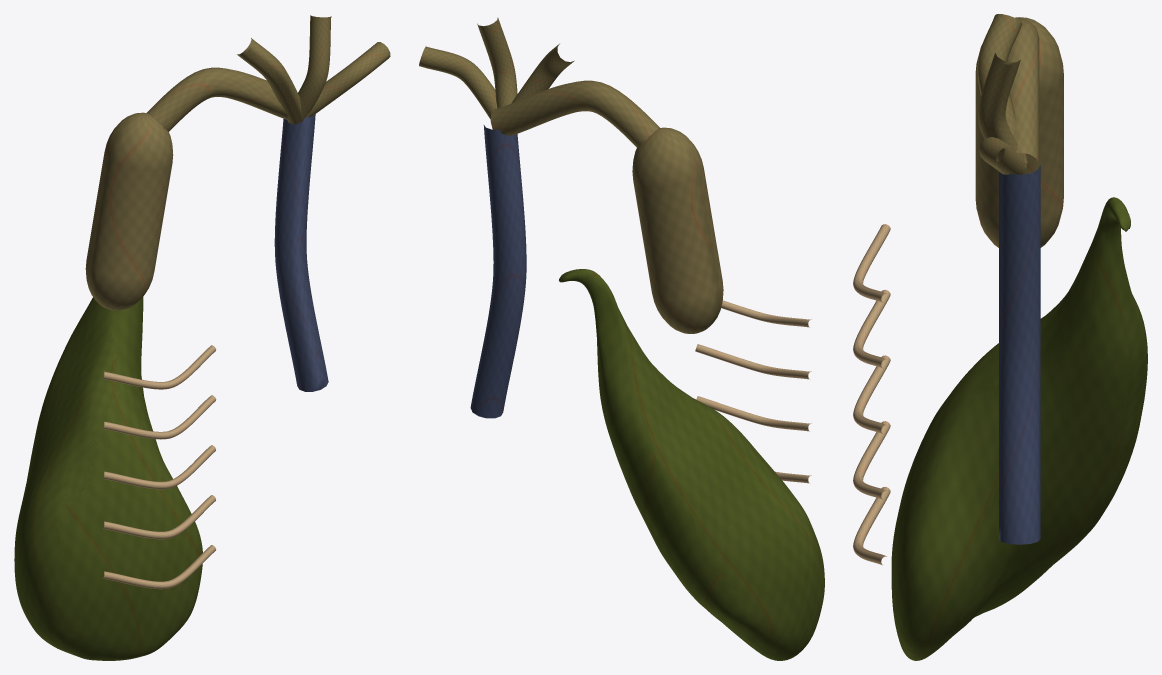
Rendered from gallbladder.a596a2ee.glb.
3 renders of one model, left to right at view 1: azimuth 30°, elevation 25°; view 2: azimuth 150°, elevation 25°; view 3: azimuth 270°, elevation 25°, orthographic. The views are drawn at different scales.
Parts seen in each view (by area): view 1: Gallbladder sac, procedural-gallbladder-surface-1, procedural-gallbladder-surface-3, procedural-gallbladder-surface-2, procedural-gallbladder-surface-5, procedural-gallbladder-surface-4, procedural-gallbladder-surface-6, procedural-gallbladder-surface-9, procedural-gallbladder-surface-7, procedural-gallbladder-surface-10, procedural-gallbladder-surface-8, procedural-gallbladder-surface-11; view 2: Gallbladder sac, procedural-gallbladder-surface-1, procedural-gallbladder-surface-3, procedural-gallbladder-surface-2, procedural-gallbladder-surface-6, procedural-gallbladder-surface-5, procedural-gallbladder-surface-4, procedural-gallbladder-surface-8, procedural-gallbladder-surface-9, procedural-gallbladder-surface-7; view 3: Gallbladder sac, procedural-gallbladder-surface-3, procedural-gallbladder-surface-1, procedural-gallbladder-surface-2, procedural-gallbladder-surface-5, procedural-gallbladder-surface-4, procedural-gallbladder-surface-6, procedural-gallbladder-surface-7, procedural-gallbladder-surface-9, procedural-gallbladder-surface-8, procedural-gallbladder-surface-11, procedural-gallbladder-surface-10.
Part boxes in pixels (left/top/right/bottom): Gallbladder sac: left=14, top=297, right=202, bottom=660; procedural-gallbladder-surface-1: left=85, top=112, right=173, bottom=310; procedural-gallbladder-surface-3: left=274, top=114, right=328, bottom=391; procedural-gallbladder-surface-2: left=147, top=67, right=287, bottom=131; procedural-gallbladder-surface-5: left=298, top=15, right=331, bottom=119; procedural-gallbladder-surface-4: left=237, top=38, right=303, bottom=124; procedural-gallbladder-surface-6: left=306, top=42, right=390, bottom=117; procedural-gallbladder-surface-9: left=103, top=445, right=215, bottom=489; procedural-gallbladder-surface-7: left=103, top=345, right=216, bottom=389; procedural-gallbladder-surface-10: left=103, top=495, right=215, bottom=539; procedural-gallbladder-surface-8: left=103, top=395, right=216, bottom=439; procedural-gallbladder-surface-11: left=103, top=545, right=216, bottom=589; Gallbladder sac: left=559, top=269, right=824, bottom=660; procedural-gallbladder-surface-1: left=632, top=127, right=723, bottom=333; procedural-gallbladder-surface-3: left=470, top=125, right=526, bottom=418; procedural-gallbladder-surface-2: left=490, top=80, right=659, bottom=147; procedural-gallbladder-surface-6: left=419, top=46, right=497, bottom=119; procedural-gallbladder-surface-5: left=477, top=17, right=517, bottom=108; procedural-gallbladder-surface-4: left=511, top=43, right=574, bottom=134; procedural-gallbladder-surface-8: left=695, top=344, right=811, bottom=379; procedural-gallbladder-surface-9: left=696, top=396, right=811, bottom=431; procedural-gallbladder-surface-7: left=721, top=300, right=811, bottom=327; Gallbladder sac: left=891, top=197, right=1147, bottom=660; procedural-gallbladder-surface-3: left=999, top=165, right=1040, bottom=544; procedural-gallbladder-surface-1: left=975, top=17, right=1063, bottom=247; procedural-gallbladder-surface-2: left=1007, top=18, right=1039, bottom=164; procedural-gallbladder-surface-5: left=978, top=53, right=1026, bottom=167; procedural-gallbladder-surface-4: left=977, top=14, right=1027, bottom=162; procedural-gallbladder-surface-6: left=978, top=137, right=1026, bottom=174; procedural-gallbladder-surface-7: left=853, top=224, right=890, bottom=302; procedural-gallbladder-surface-9: left=853, top=355, right=890, bottom=433; procedural-gallbladder-surface-8: left=853, top=289, right=890, bottom=368; procedural-gallbladder-surface-11: left=853, top=486, right=890, bottom=565; procedural-gallbladder-surface-10: left=853, top=421, right=890, bottom=499.
Size of the model in its own units: 2.02 by 2.95 by 1.06.
Materials: 4 (4 with a texture image).
